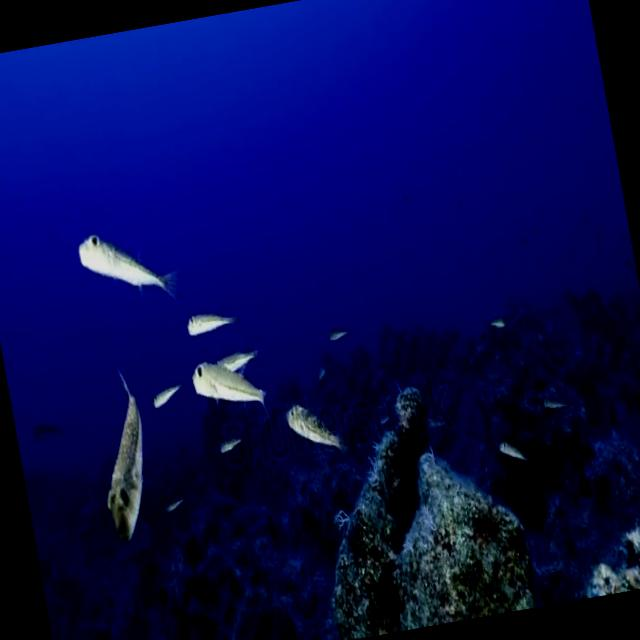Balon Baligi: (76, 362, 164, 540), (67, 210, 183, 310), (188, 344, 266, 418), (276, 386, 342, 460), (177, 300, 245, 348)
